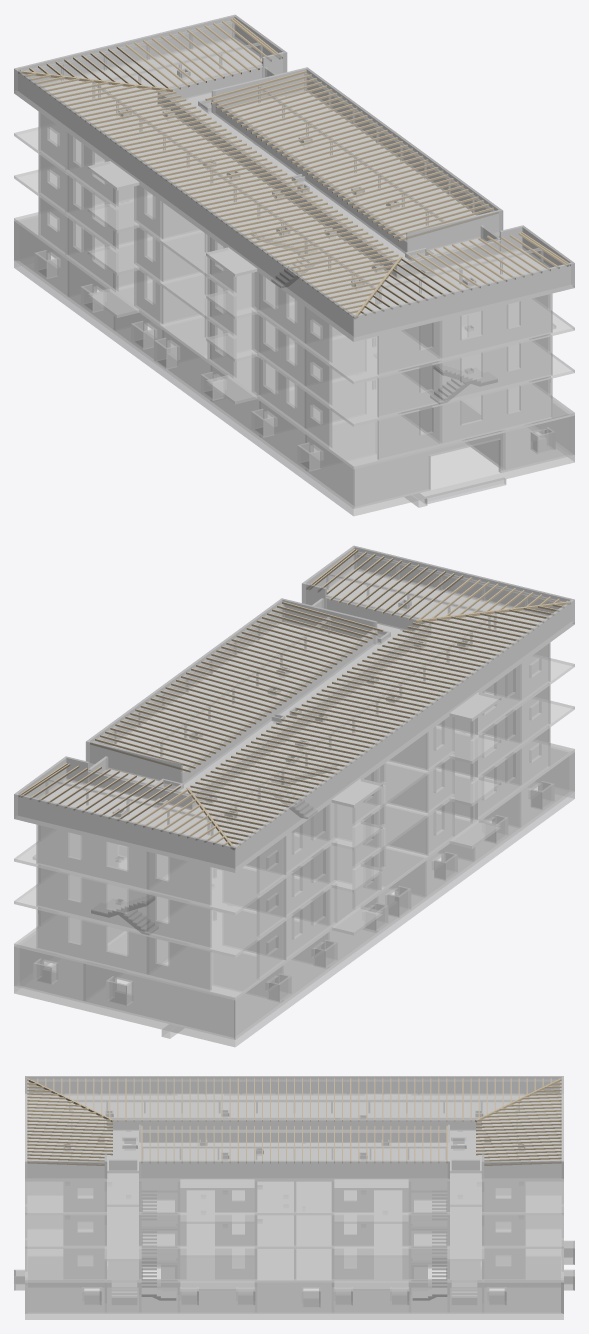
The model's file is ZGRADA KOPRIVNICA.dae.
3 renders of one model, top to bottom at view 1: azimuth 30°, elevation 25°; view 2: azimuth 150°, elevation 25°; view 3: azimuth 270°, elevation 25°, orthographic. The views are drawn at different scales.
Parts seen in each view (by area): view 1: Wand (×63), Decke (×5), 3D_Element (×2), Unterzug; view 2: Wand (×63), Decke (×5), 3D_Element, Unterzug; view 3: Decke (×5), Wand (×32), 3D_Element (×3), Unterzug (×5).
Boxes of the visible parts, bbox=[...] form: Wand (×63): bbox=[14, 15, 574, 508]; Decke (×5): bbox=[14, 39, 574, 469]; 3D_Element (×2): bbox=[14, 247, 574, 516]; Unterzug: bbox=[92, 82, 374, 287]; Wand (×63): bbox=[14, 546, 574, 1039]; Decke (×5): bbox=[14, 570, 574, 1000]; 3D_Element: bbox=[14, 778, 574, 1047]; Unterzug: bbox=[214, 613, 496, 818]; Decke (×5): bbox=[25, 1094, 563, 1291]; Wand (×32): bbox=[25, 1076, 563, 1313]; 3D_Element (×3): bbox=[25, 1234, 563, 1319]; Unterzug (×5): bbox=[33, 1079, 555, 1148].
Bounding box in the file's own units: 19.65 × 43.7 × 14.1.
